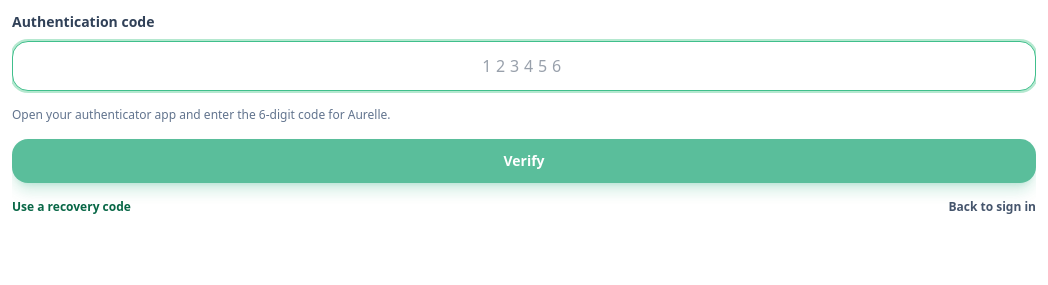
it: TwoFactorLoginStep › the last try says '1 try left'
Type "000000" into the field labelled "Authentication code" at [524, 66], box [12, 41, 1036, 91]
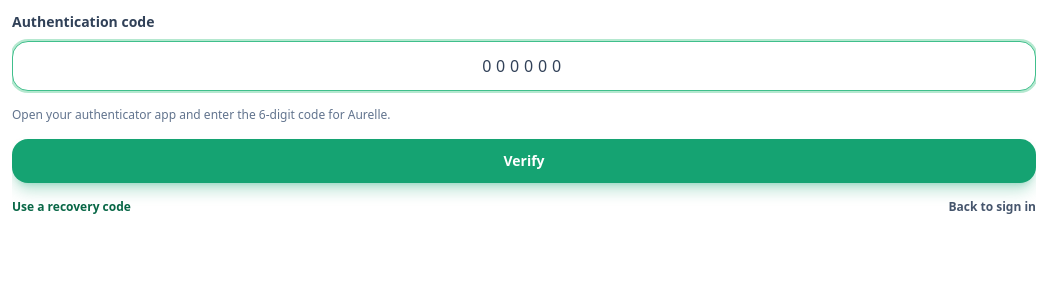
Click the button "Verify" at [524, 161], box [12, 139, 1036, 183]
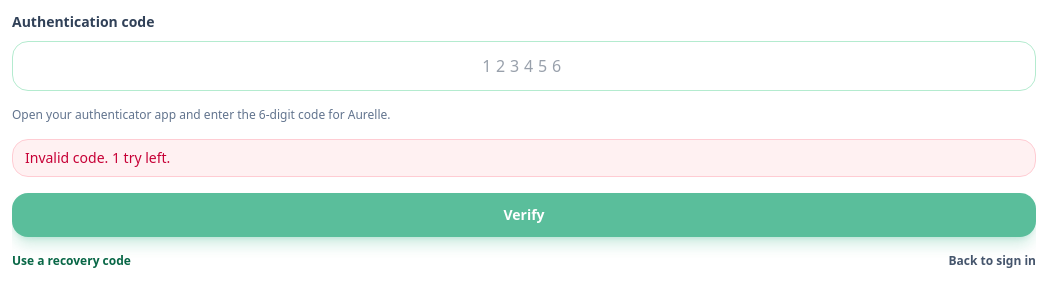
Result: the message shows "1 try left" at [25, 148, 170, 167]
